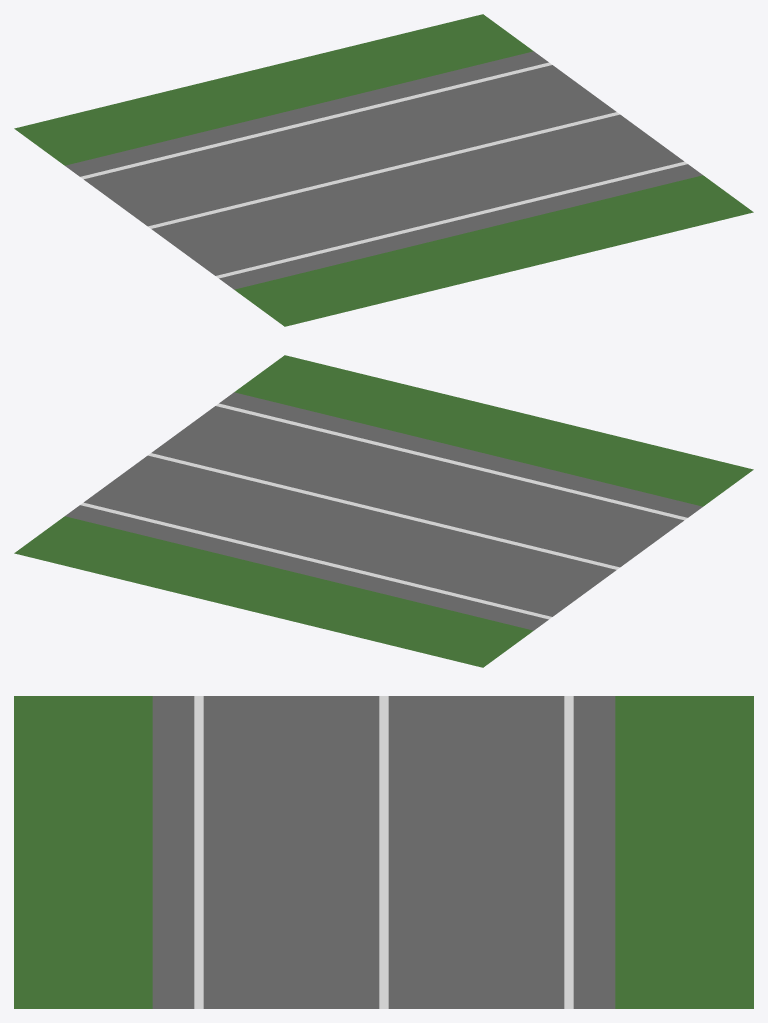
Rendered from Road_01.fbx.
3 renders of one model, top to bottom at view 1: azimuth 30°, elevation 25°; view 2: azimuth 150°, elevation 25°; view 3: azimuth 270°, elevation 25°, orthographic. The views are drawn at different scales.
Visible parts, largest first — view 1: Road_01; view 2: Road_01; view 3: Road_01.
Boxes of the visible parts, box(x1,y1,x2,y2) form: Road_01: box(14, 14, 753, 326); Road_01: box(14, 355, 753, 667); Road_01: box(14, 696, 753, 1008).
Size of the model in its own units: 1200 by 0 by 1200.
